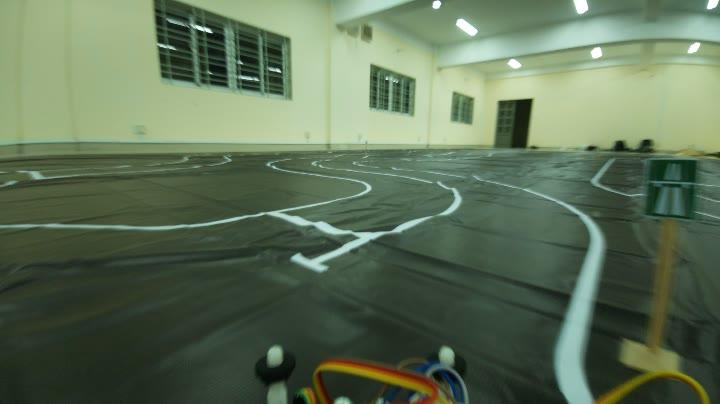highway_entry: (638, 154, 701, 227)
